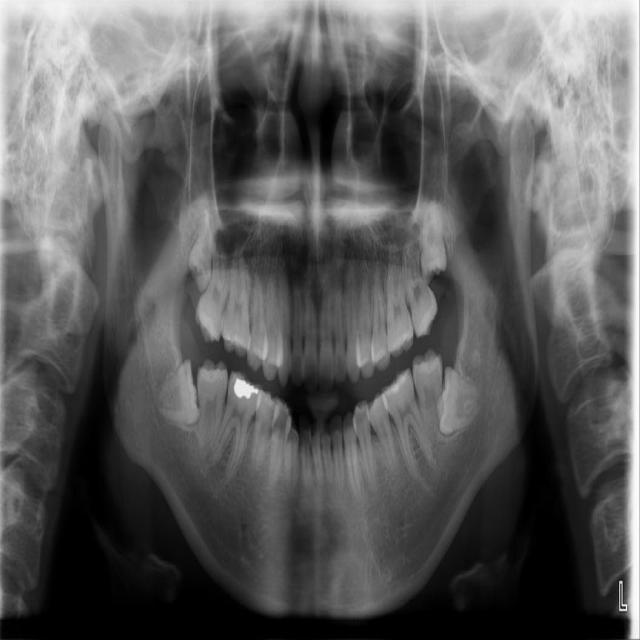Filling: (233, 376, 262, 402)
impacted tooth: (150, 359, 200, 426), (438, 367, 486, 434), (416, 193, 451, 276), (188, 203, 214, 291)
